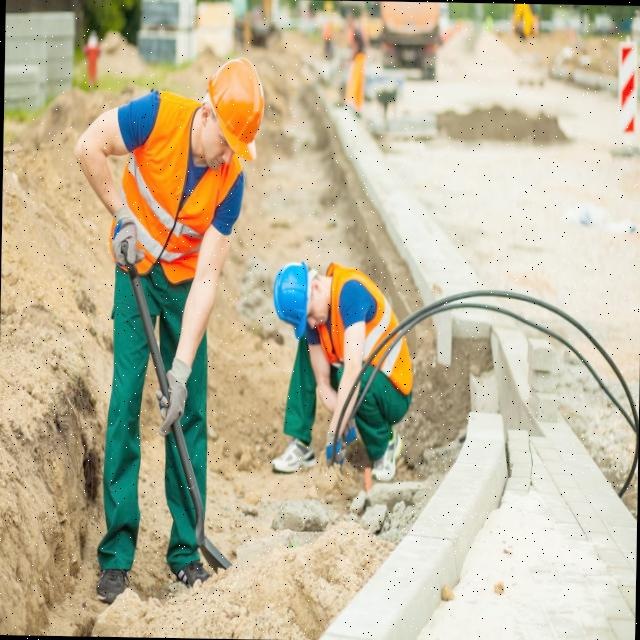Helmet: (207, 57, 267, 164), (273, 261, 314, 340)
Jacket: (124, 121, 231, 299), (313, 270, 408, 393)
